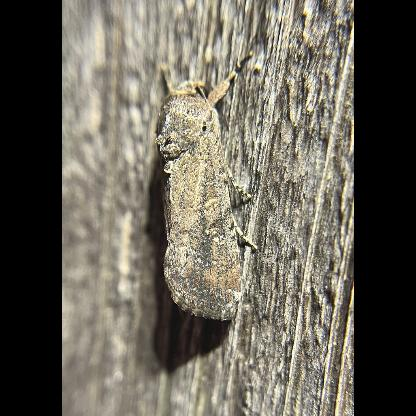Fall Armyworm Moth: (151, 48, 265, 324)
